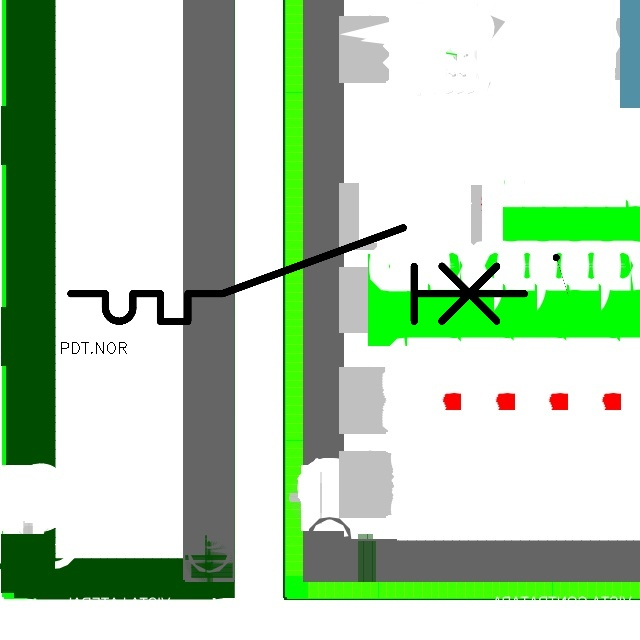interruptor_termomagnetico: (59, 216, 536, 333)
